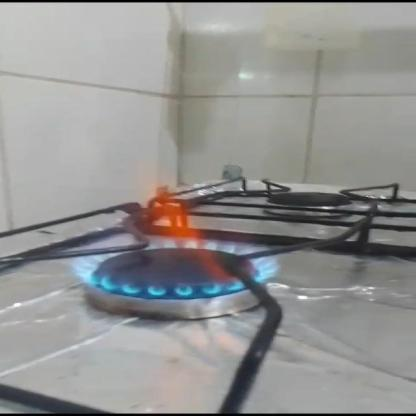fire: (58, 170, 288, 299)
